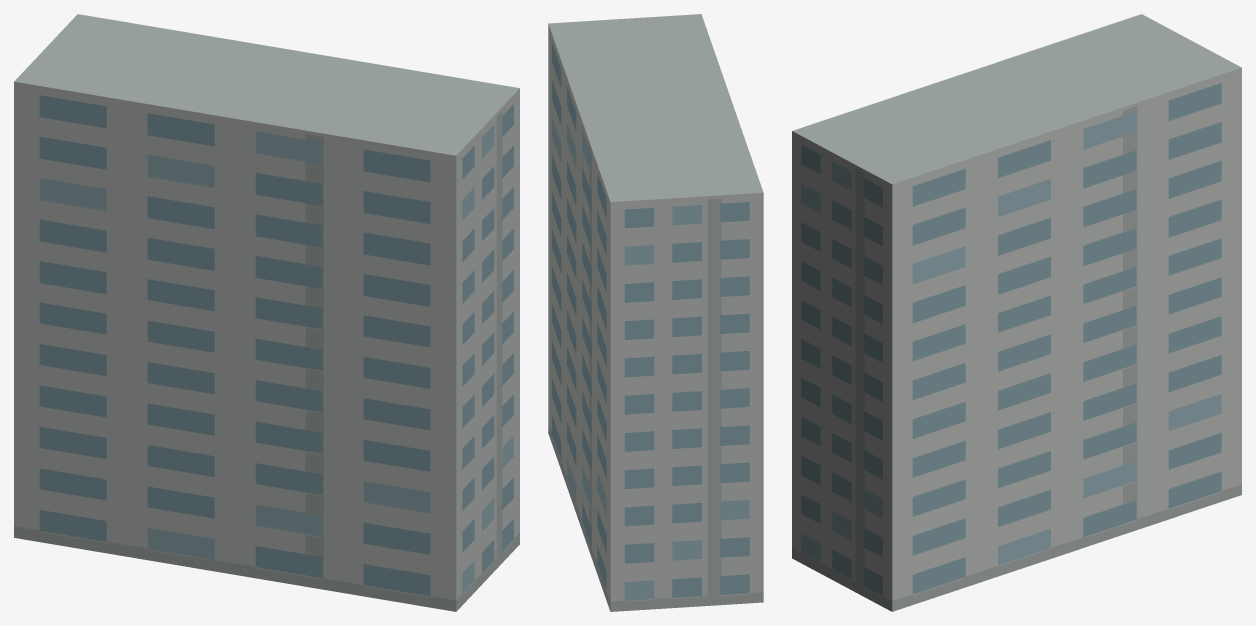
File: residential-0b3ceff4-0d2f-4b52-abaa-a7d8440c7307.glb
3 renders of one model, left to right at view 1: azimuth 30°, elevation 25°; view 2: azimuth 150°, elevation 25°; view 3: azimuth 270°, elevation 25°, orthographic. The views are drawn at different scales.
Visible parts, largest first — view 1: residential-0b3ceff4-0d2f-4b52-abaa-a7d8440c7307.tmp; view 2: residential-0b3ceff4-0d2f-4b52-abaa-a7d8440c7307.tmp; view 3: residential-0b3ceff4-0d2f-4b52-abaa-a7d8440c7307.tmp.
Part boxes in pixels (x1,y1,x2,y2): residential-0b3ceff4-0d2f-4b52-abaa-a7d8440c7307.tmp: [14, 14, 519, 611]; residential-0b3ceff4-0d2f-4b52-abaa-a7d8440c7307.tmp: [548, 14, 763, 611]; residential-0b3ceff4-0d2f-4b52-abaa-a7d8440c7307.tmp: [792, 14, 1241, 611].
Bounding box in the file's own units: 26.52 × 31 × 29.56.
